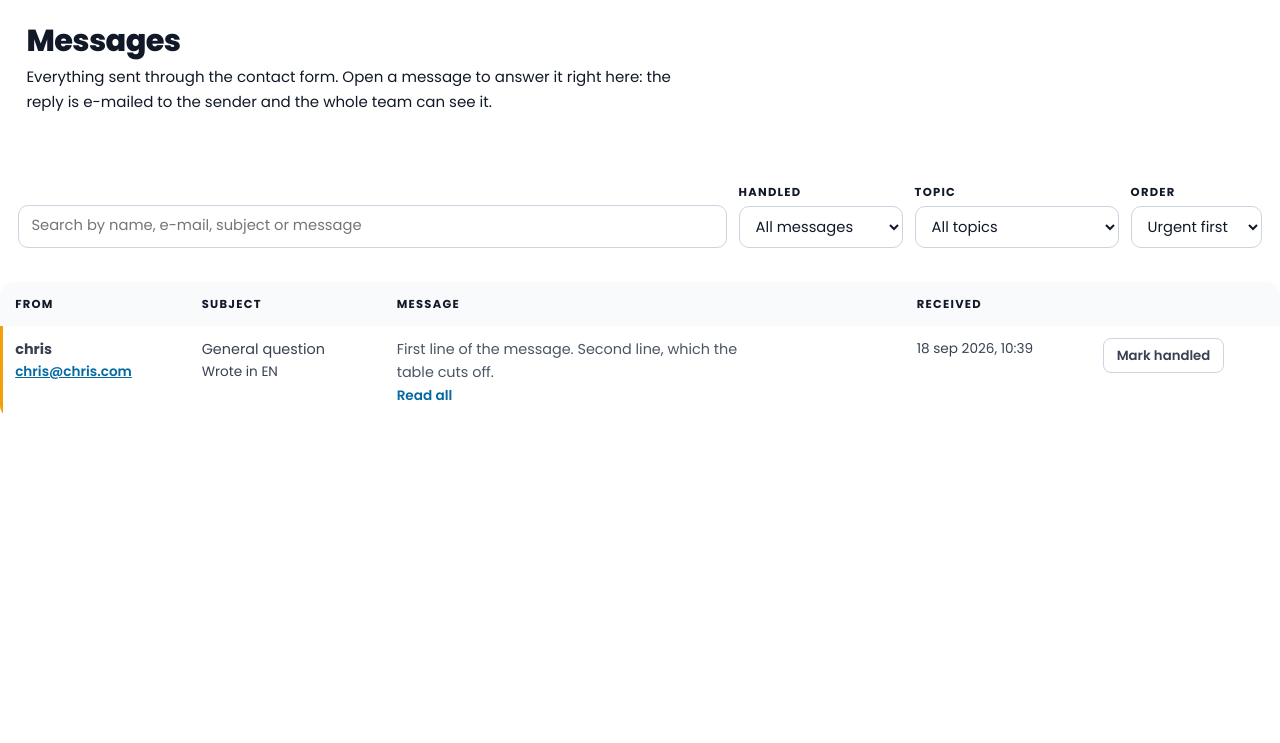
Test: the messages pop-up › opens the whole message from "Read all"
Click the button "Read all".
click(424, 396)  # box [397,385,452,407]
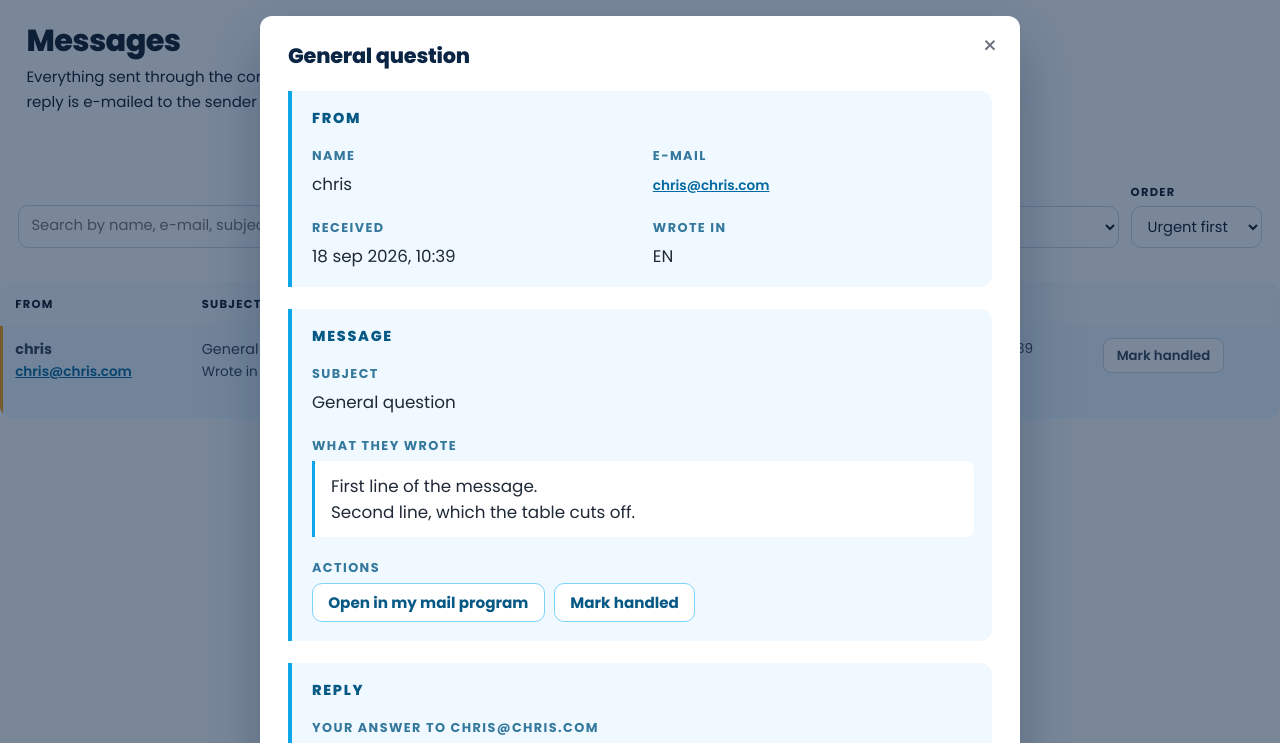
Expected: the text "Second line, which the table cuts off" is shown, [331,474,635,524]
Expected: the text "chris" is shown, [312,172,352,196]
